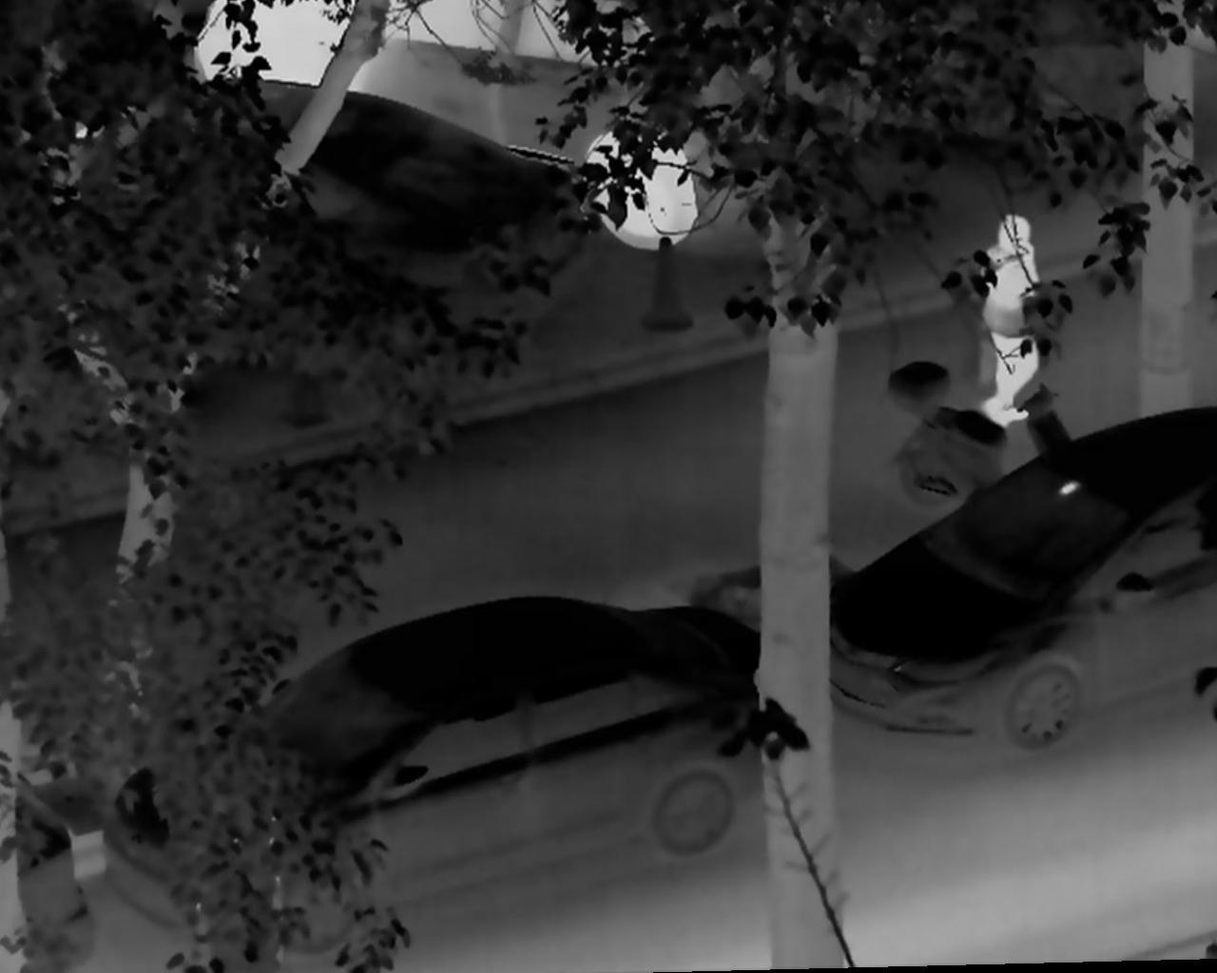person: (966, 210, 1046, 436)
